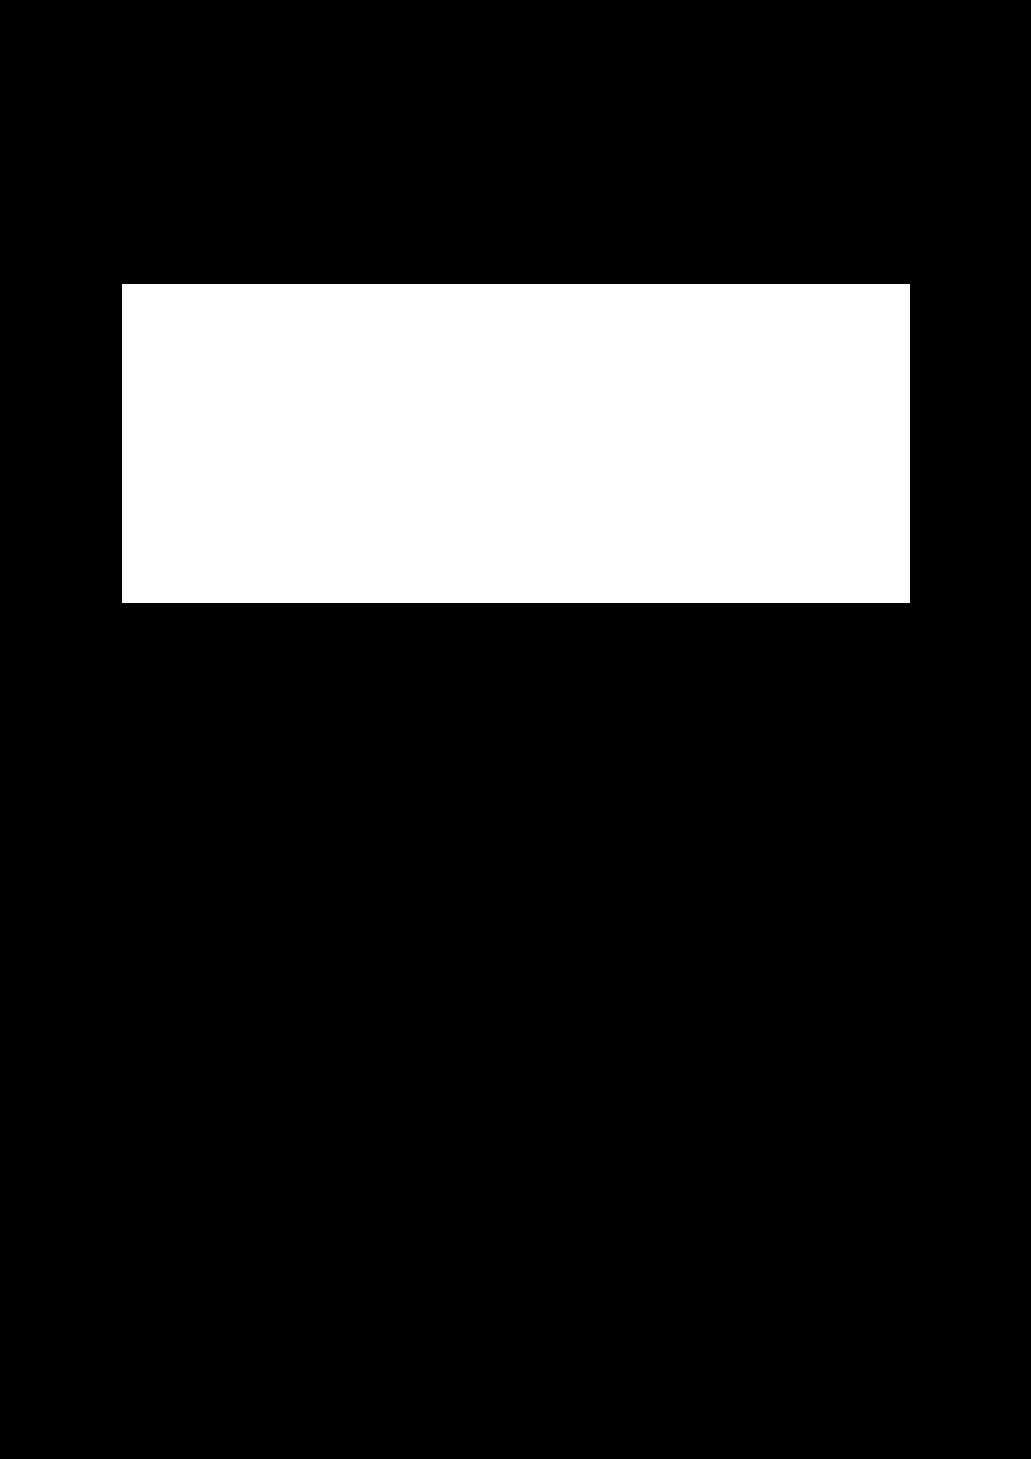table: (122, 284, 909, 602)
